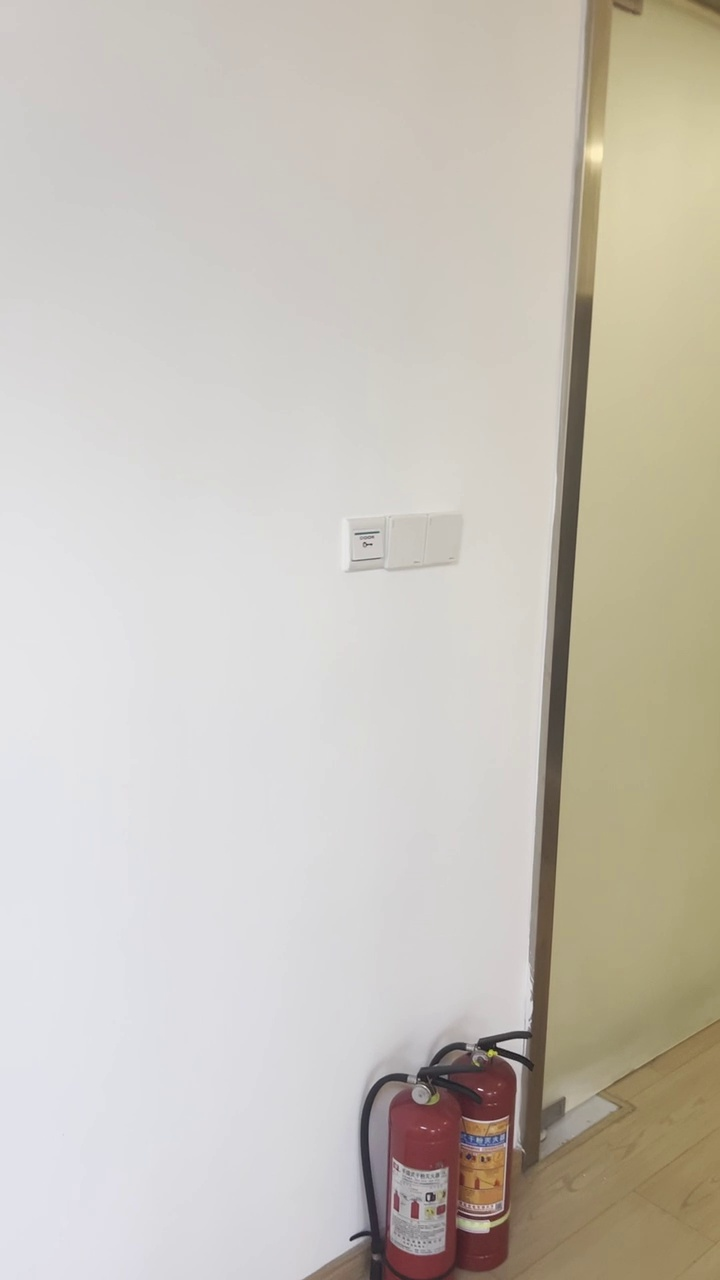button: (384, 511, 427, 571), (427, 509, 463, 570)
